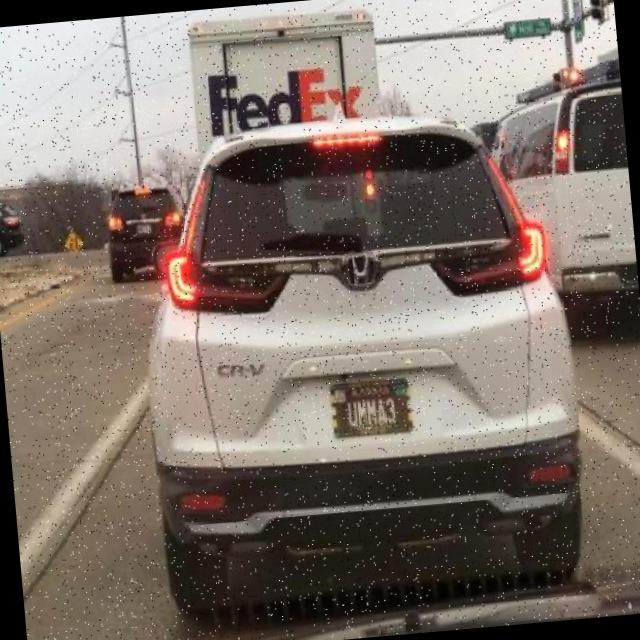LicensePlate: (329, 377, 413, 439)
